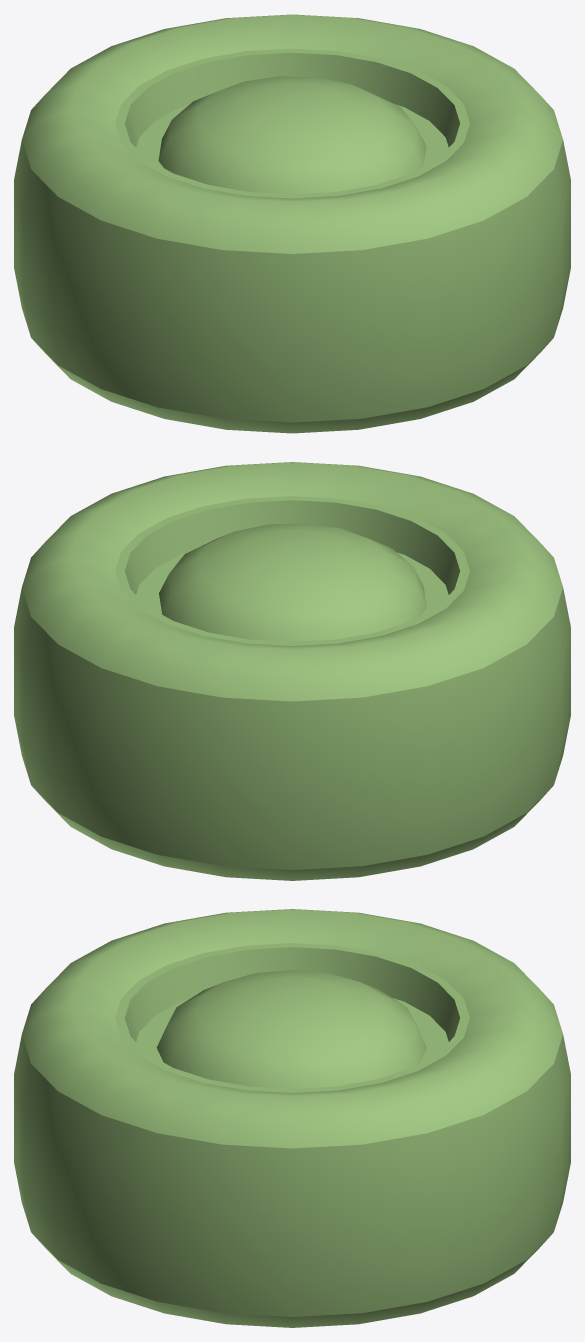
File: car wheel.FBX
The picture shows the model from 3 angles, top to bottom: view 1: azimuth 30°, elevation 25°; view 2: azimuth 150°, elevation 25°; view 3: azimuth 270°, elevation 25°; orthographic projection.
Parts seen in each view (by area): view 1: Cylinder020; view 2: Cylinder020; view 3: Cylinder020.
Part boxes in pixels (x1,y1,x2,y2): Cylinder020: (14, 14, 570, 433); Cylinder020: (14, 462, 570, 880); Cylinder020: (14, 909, 570, 1327).
Bounding box in the file's own units: 1.07 × 0.5078 × 1.07.
